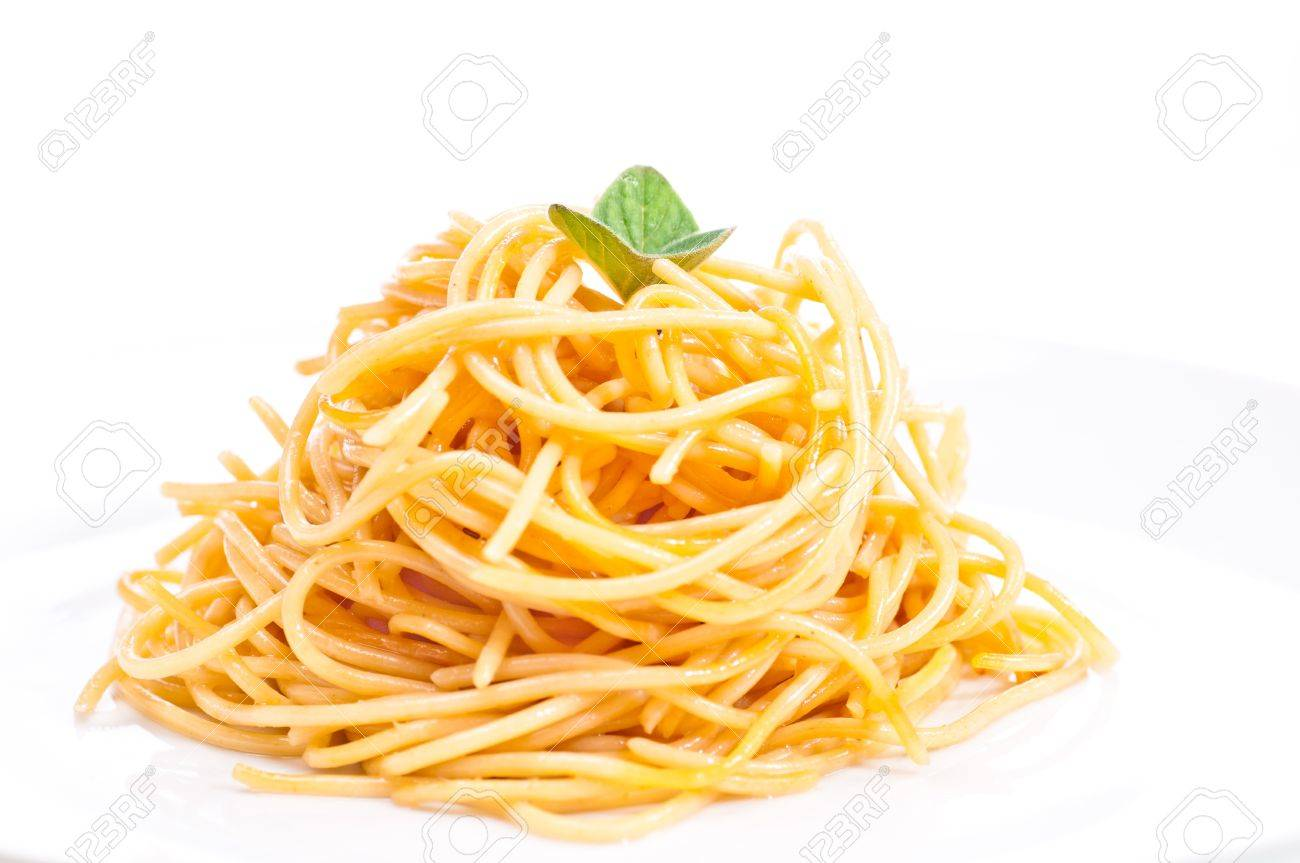plain spaghetti: (103, 219, 1103, 786)
